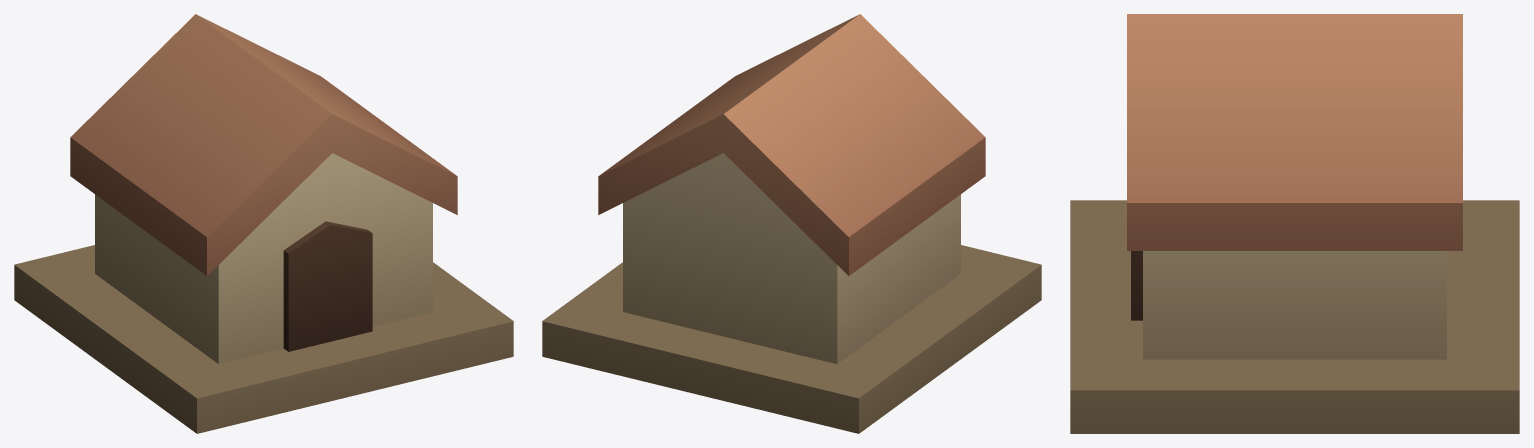
Rendered from SM_House_Small.fbx.
3 views of the same model, side by side, from view 1: azimuth 30°, elevation 25°; view 2: azimuth 150°, elevation 25°; view 3: azimuth 270°, elevation 25° (orthographic). The views are drawn at different scales.
Parts seen in each view (by area): view 1: House_Small; view 2: House_Small; view 3: House_Small.
Boxes of the visible parts, x1=… form: House_Small: x1=14, y1=14, x2=513, y2=433; House_Small: x1=542, y1=14, x2=1041, y2=433; House_Small: x1=1070, y1=14, x2=1519, y2=433.
Size of the model in its own units: 200 by 160 by 200.
